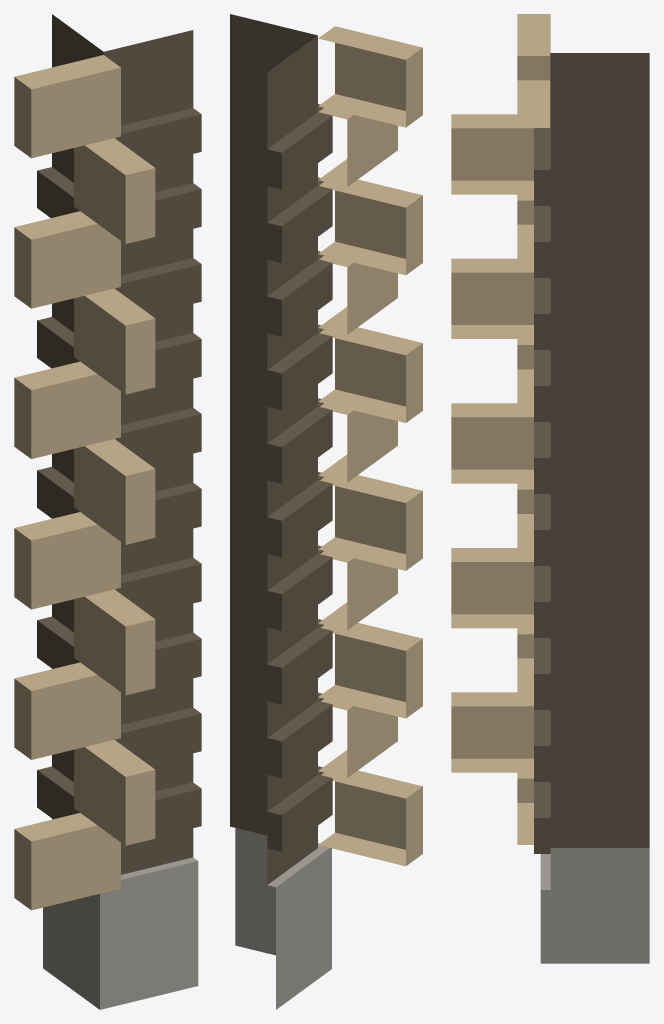
The model's file is base-c1_close.fbx.
3 views of the same model, side by side, from view 1: azimuth 30°, elevation 25°; view 2: azimuth 150°, elevation 25°; view 3: azimuth 270°, elevation 25° (orthographic). The views are drawn at different scales.
Visible parts, largest first — view 1: a2015/400/base-c1_close; view 2: a2015/400/base-c1_close; view 3: a2015/400/base-c1_close.
Boxes of the visible parts, bbox=[...] form: a2015/400/base-c1_close: bbox=[14, 14, 201, 1009]; a2015/400/base-c1_close: bbox=[230, 14, 422, 1009]; a2015/400/base-c1_close: bbox=[451, 14, 649, 963].
Size of the model in its own units: 0.6 by 3.05 by 0.6.
